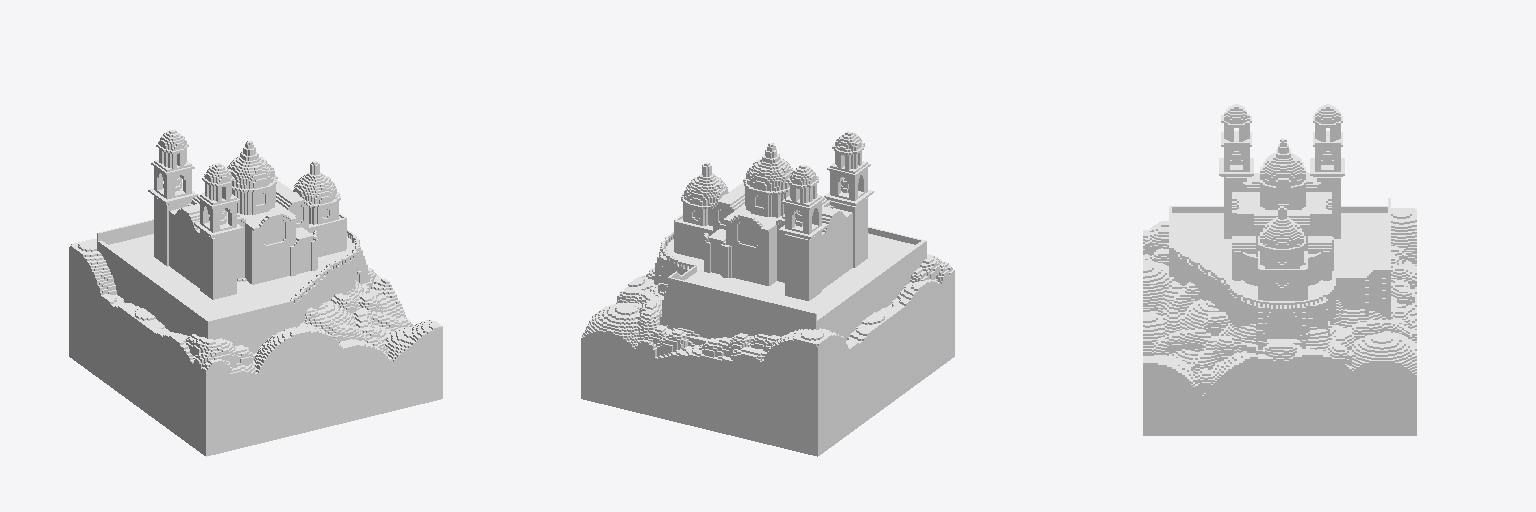
The model's file is iglesia-v01.obj.
The picture shows the model from 3 angles: view 1: azimuth 30°, elevation 25°; view 2: azimuth 150°, elevation 25°; view 3: azimuth 270°, elevation 25°; orthographic projection.
Parts seen in each view (by area): view 1: object 1; view 2: object 1; view 3: object 1.
Part boxes in pixels (left/top/right/bottom): object 1: left=69, top=130, right=442, bottom=456; object 1: left=581, top=131, right=954, bottom=456; object 1: left=1143, top=104, right=1416, bottom=435.
Size of the model in its own units: 12.6 by 12.4 by 12.6.